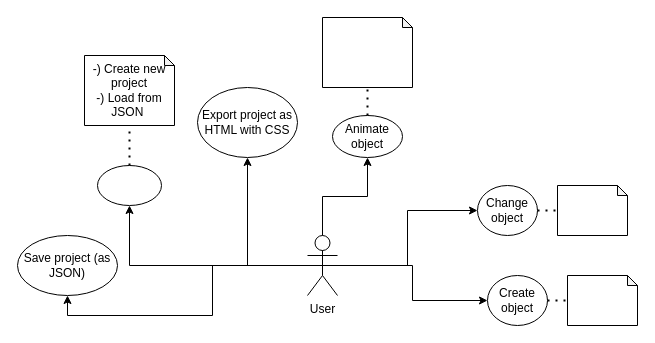
This 655x343 diagram has some shape labels left out. Each missing label, with the centre of its shape:
"-) Shape -) Animation" belongs at pixel 602 300.
"-) Translate -) Rotate -) Scale" belongs at pixel 367 52.
"Init project" belongs at pixel 129 185.
"Set property value" belongs at pixel 592 210.
